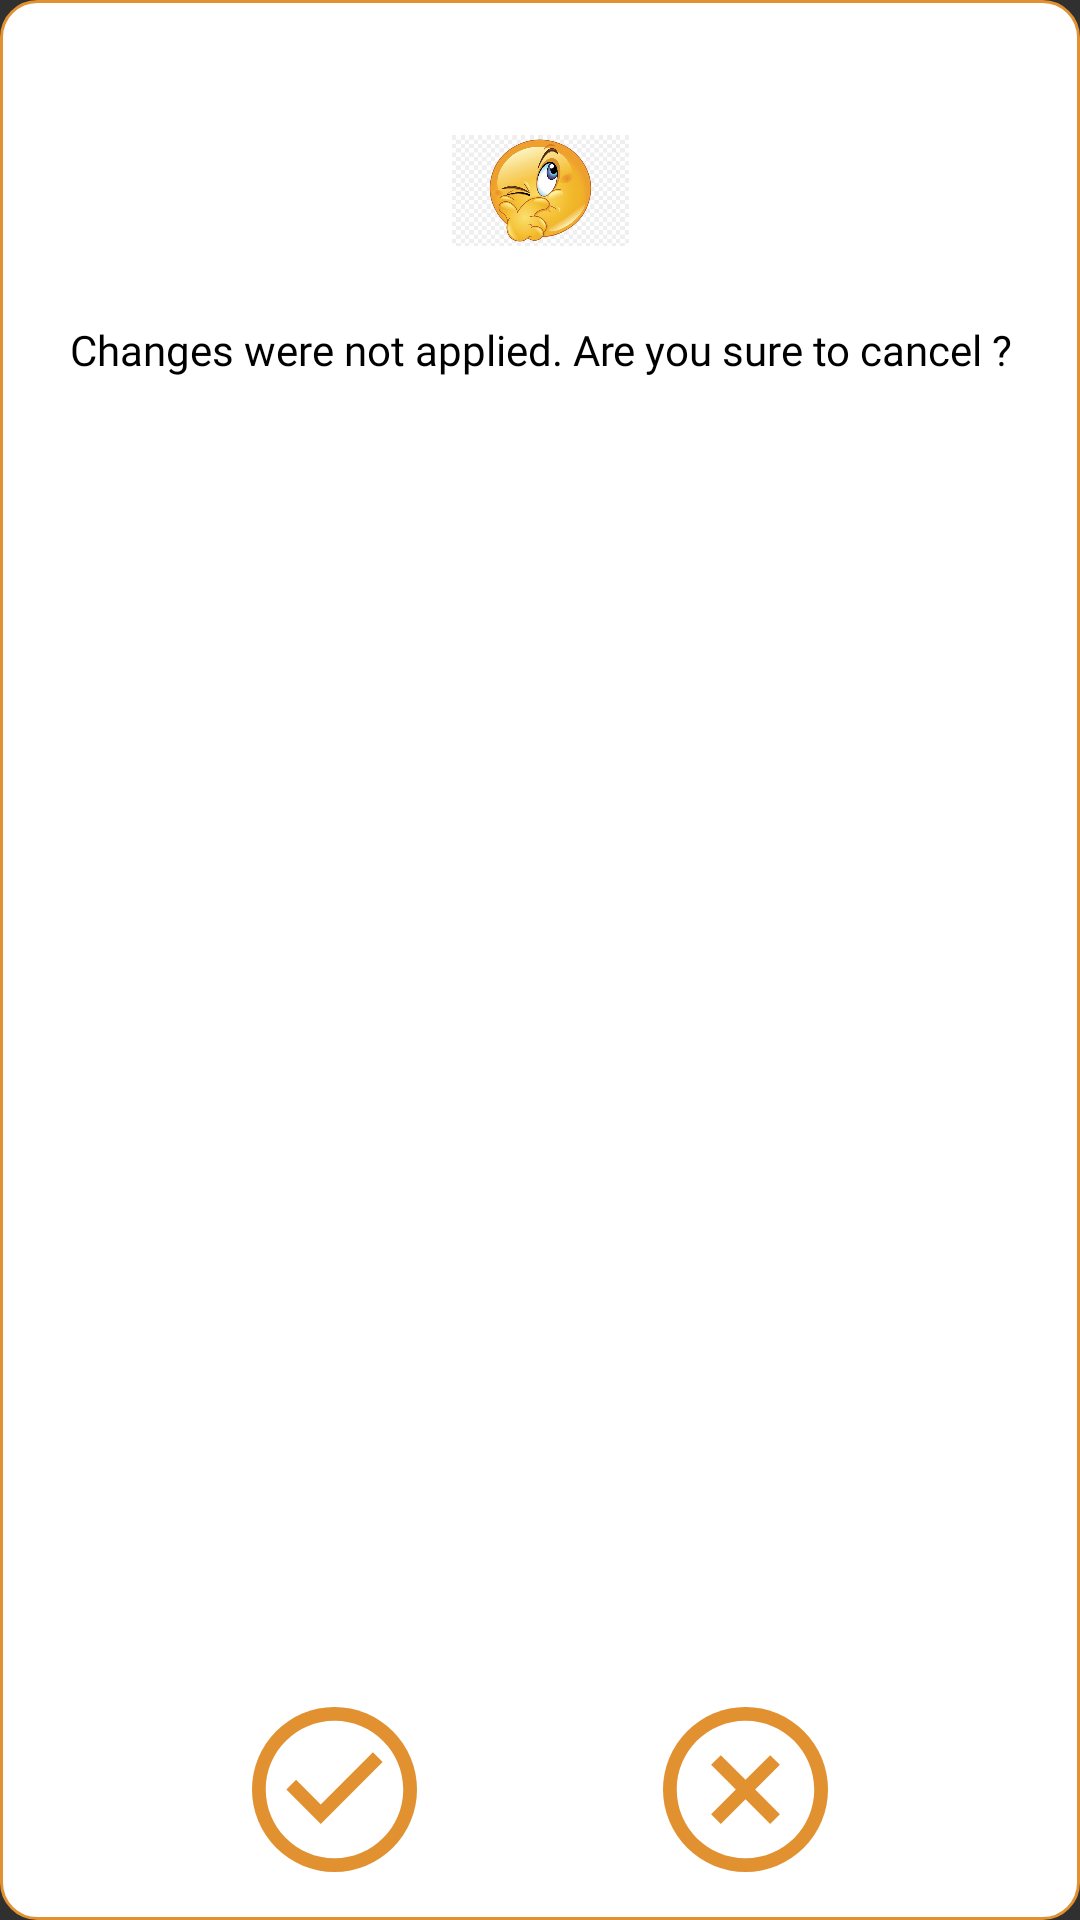

Icons on this 1080*1920 Android screen, each with the point to tap as point (x, y):
cancel: point (745, 1789)
check circle: point (334, 1789)
